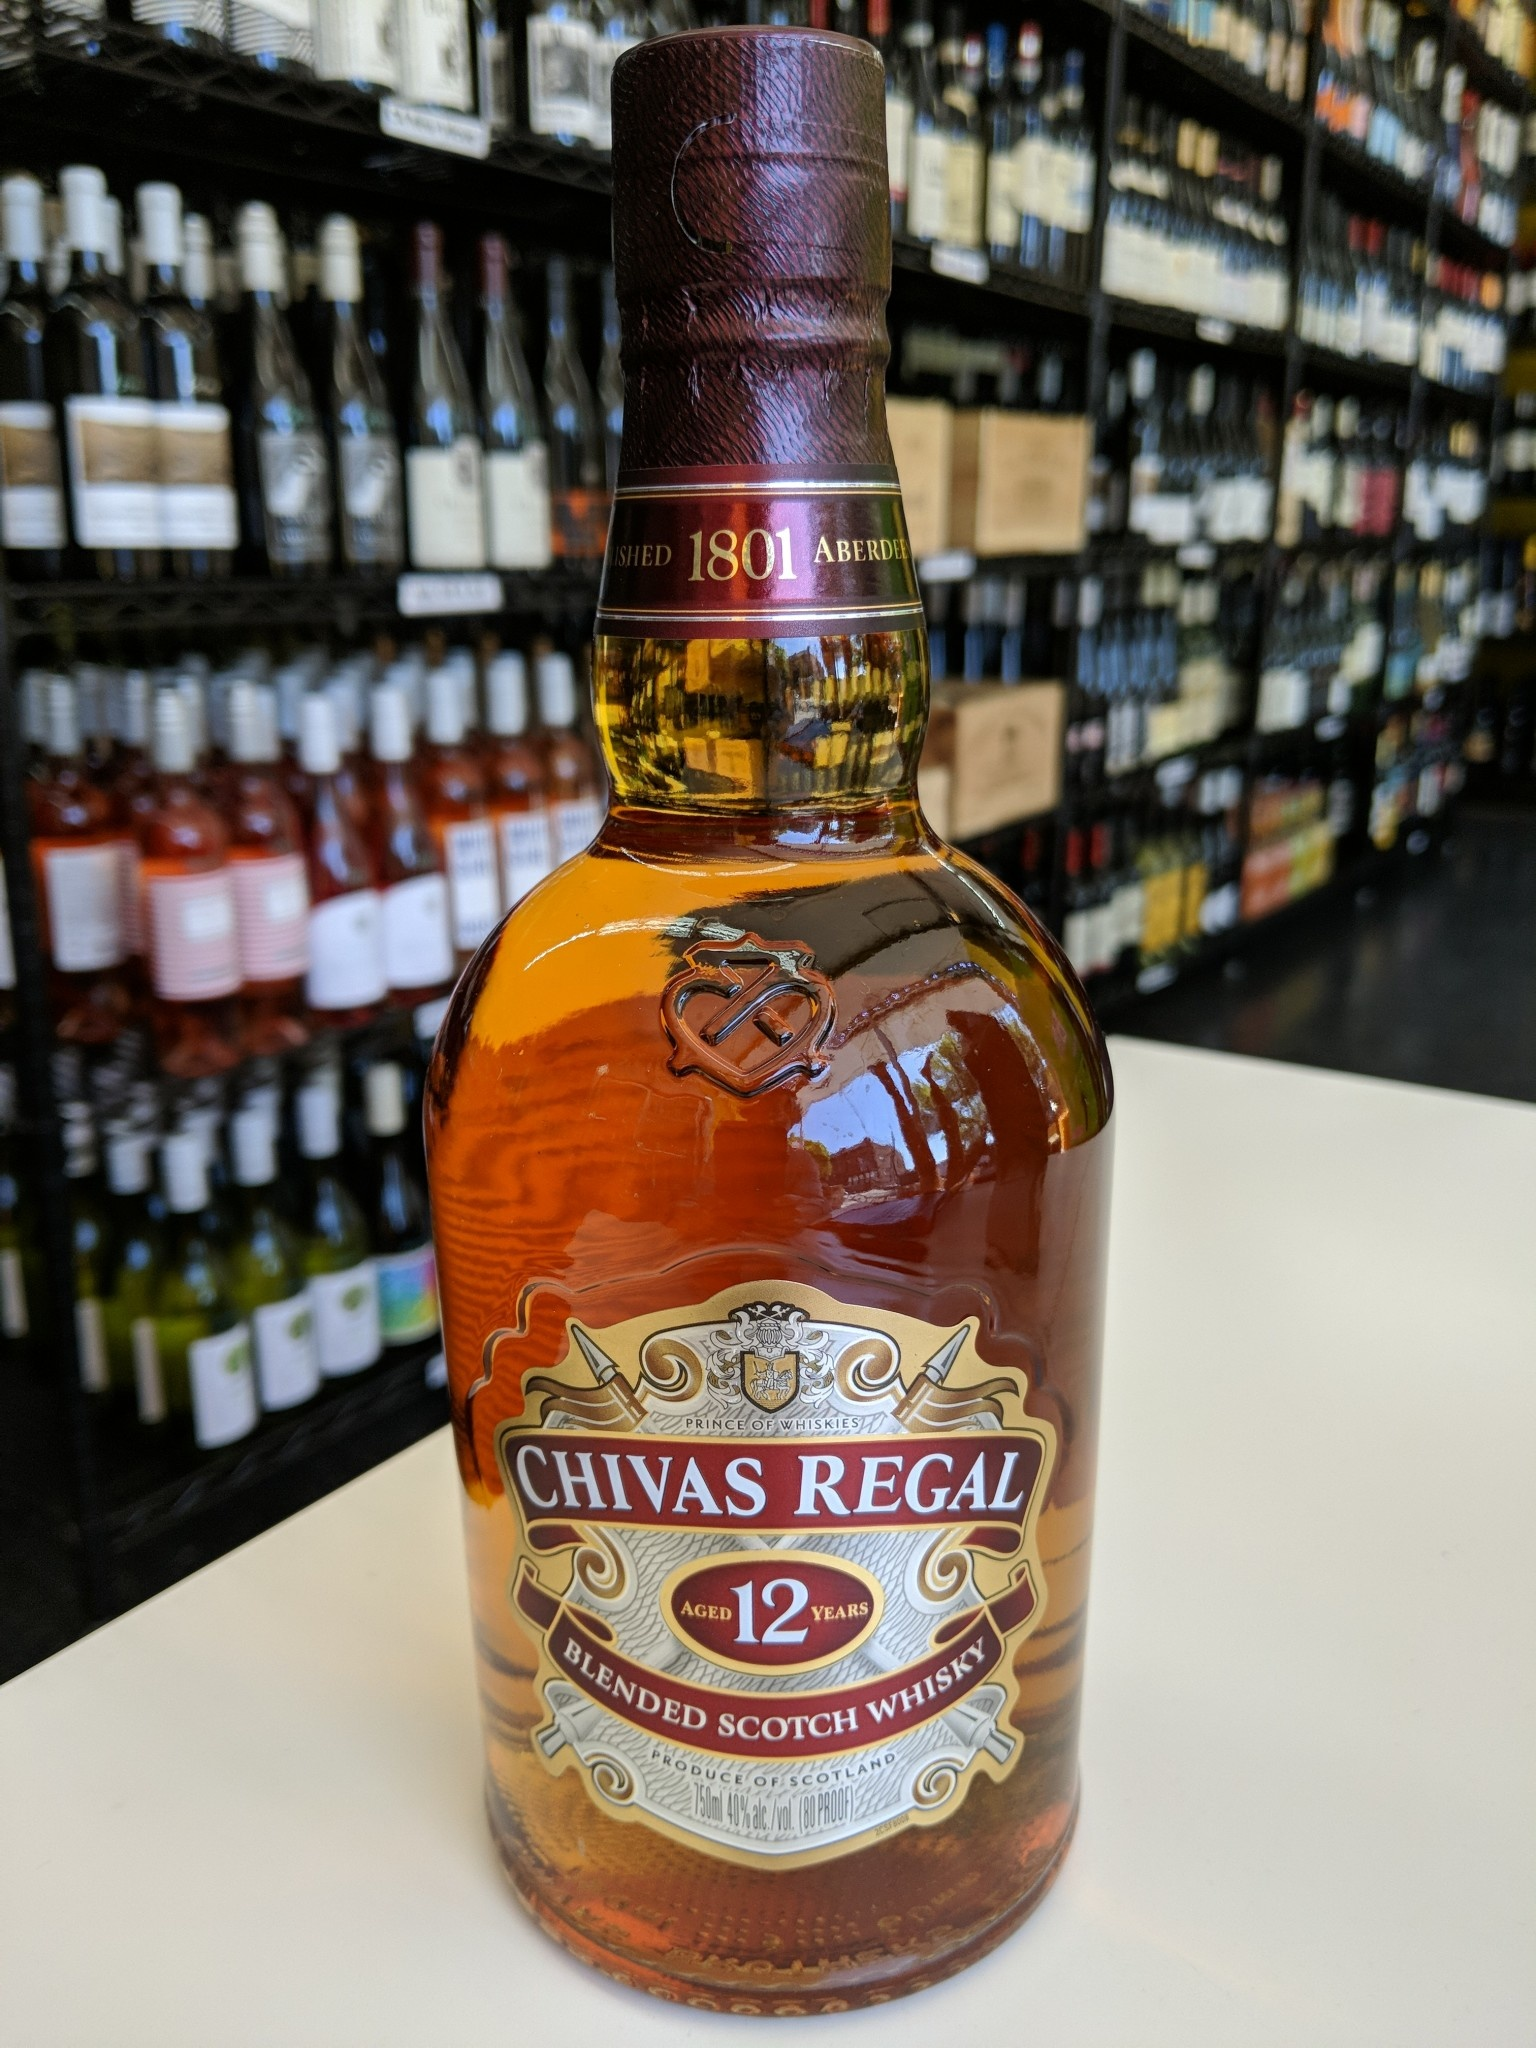Chivas Regal: (381, 8, 1149, 2046)
